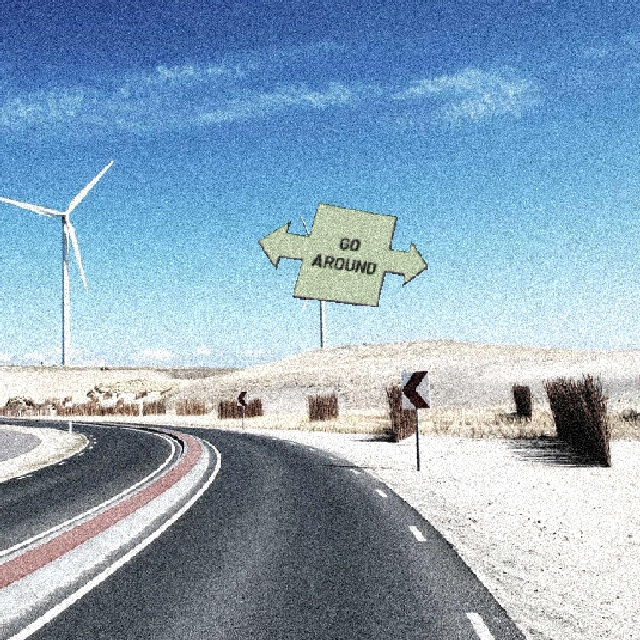GO_AROUND: (256, 201, 427, 306)
